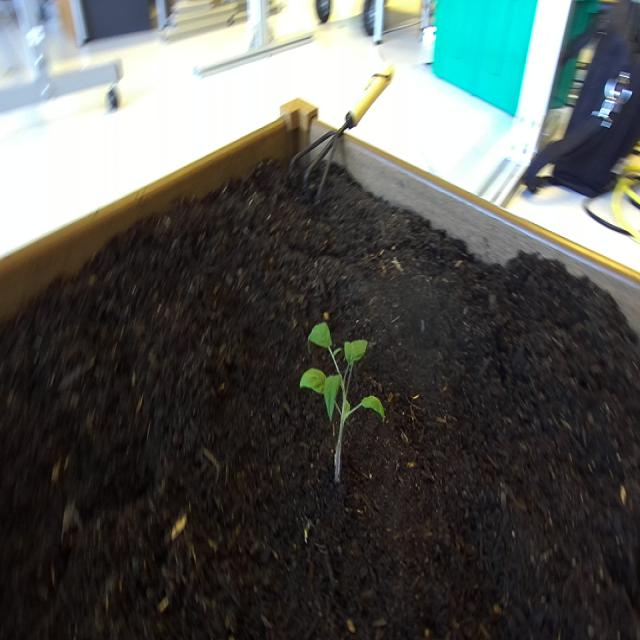Healthy: (298, 308, 387, 491)
